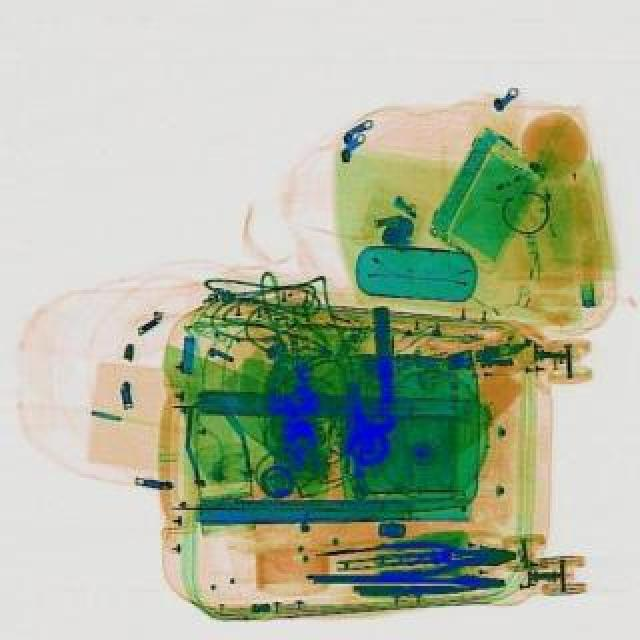wrench: (376, 534, 516, 576)
